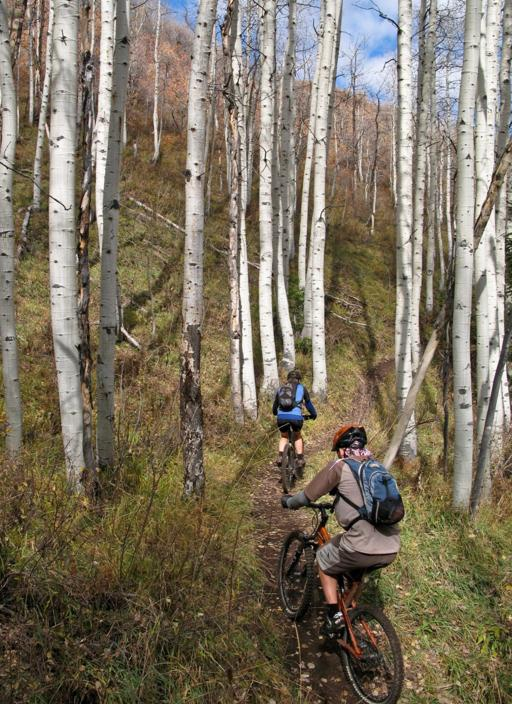non-vehicle: (275, 498, 405, 704), (278, 414, 314, 494)
